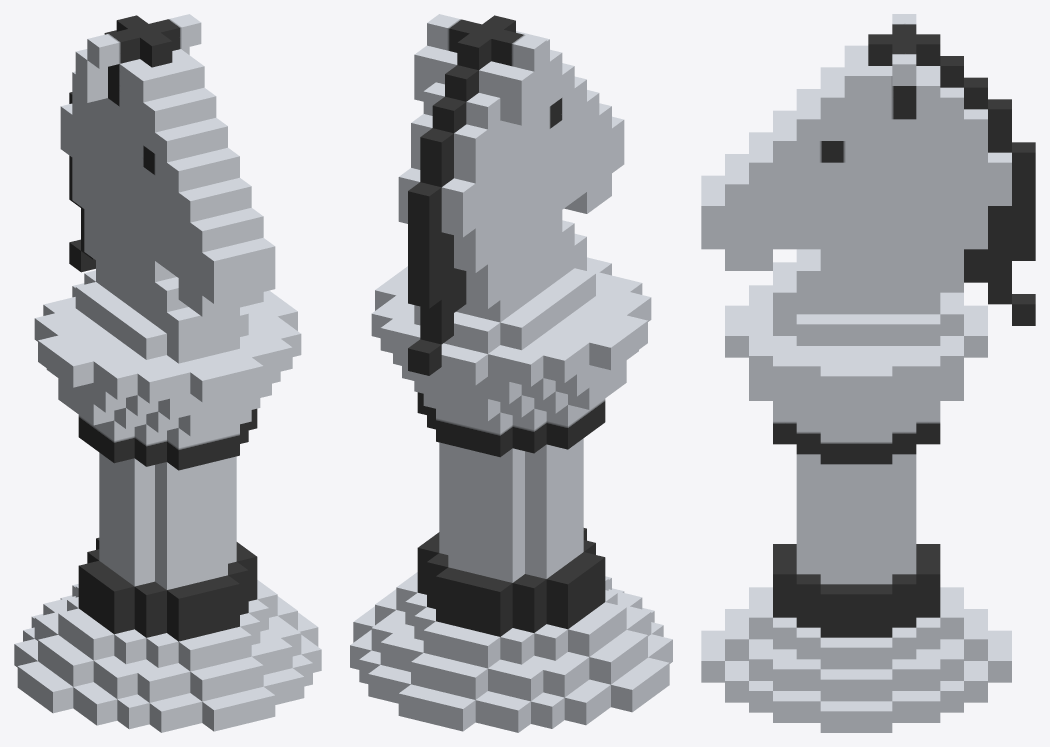
File: whiteN.dae
3 views of the same model, side by side, from view 1: azimuth 30°, elevation 25°; view 2: azimuth 150°, elevation 25°; view 3: azimuth 270°, elevation 25° (orthographic). The views are drawn at different scales.
Visible parts, largest first — view 1: whiteN; view 2: whiteN; view 3: whiteN.
Boxes of the visible parts, x1,y1,x2,y2 form: whiteN: (14,14,321,732); whiteN: (350,14,672,732); whiteN: (701,14,1035,732).
Size of the model in its own units: 13 by 29 by 14.
Materials: 1 (1 with a texture image).
